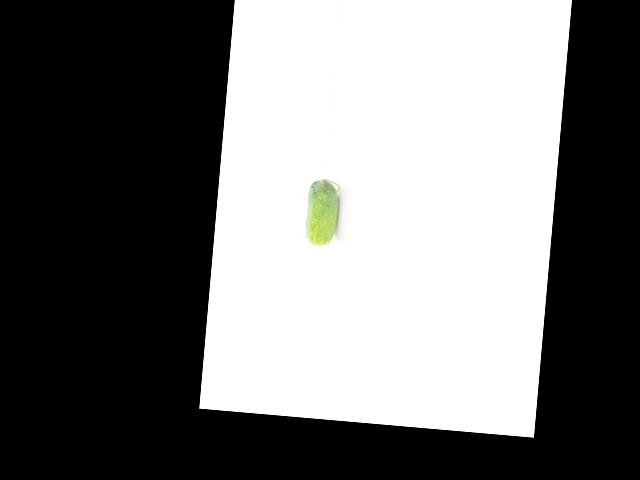cucumber: (304, 178, 341, 248)
